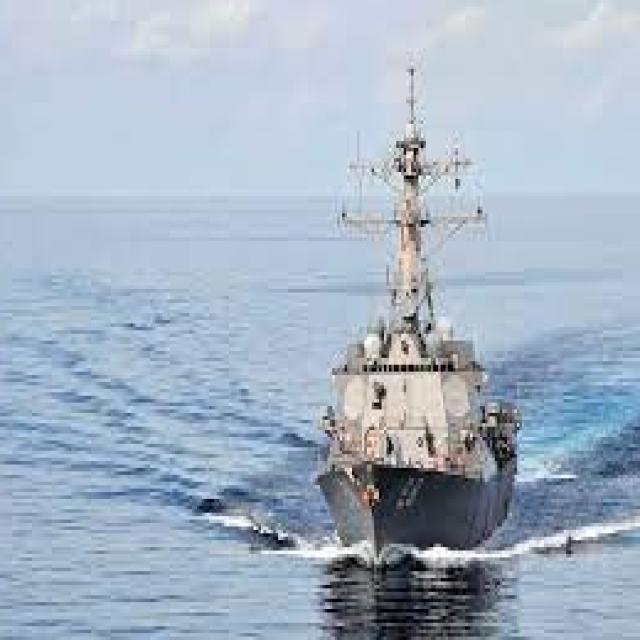navalvessels: (302, 58, 517, 568)
